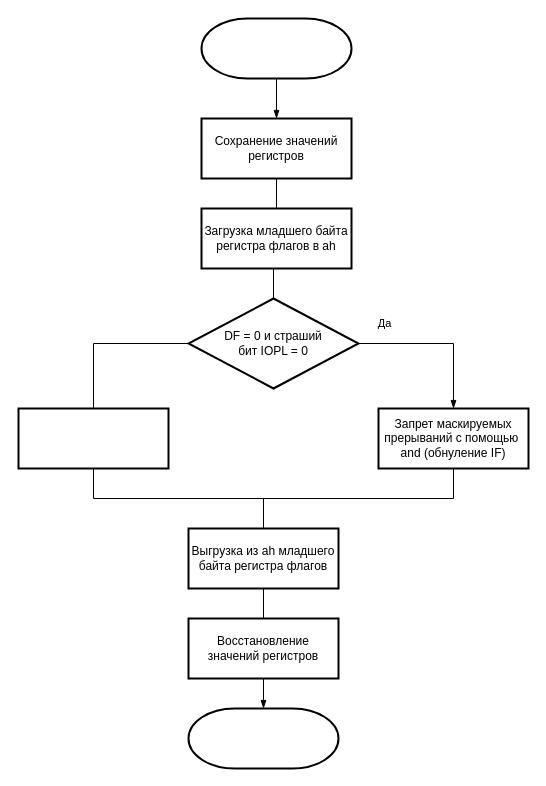
Image size: 546x786. Some labels were removed from this diagram. The shapes that lost their labels are listed below. From the top down, each one's centre as x and y in pixels, then its label:
At pixel 276 48: "Начало sub_4".
At pixel 93 438: "Запрет маскируемых прерываний с помощью cli".
At pixel 263 738: "Конец sub_4".
